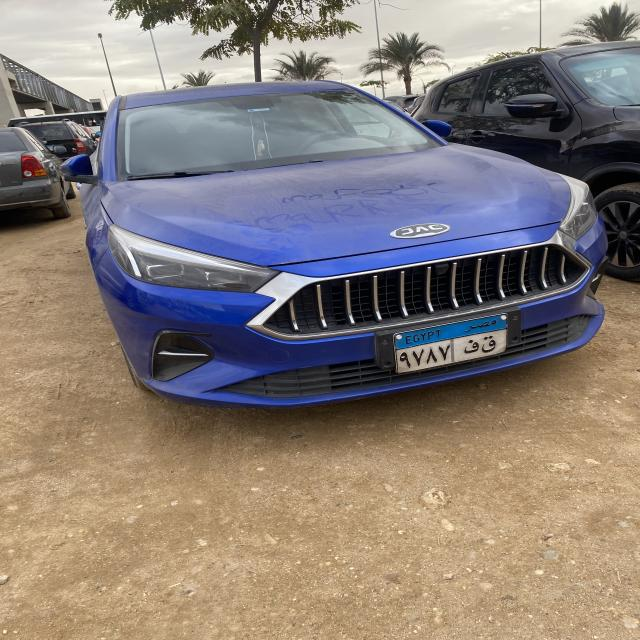License Plate: (392, 312, 509, 374)
